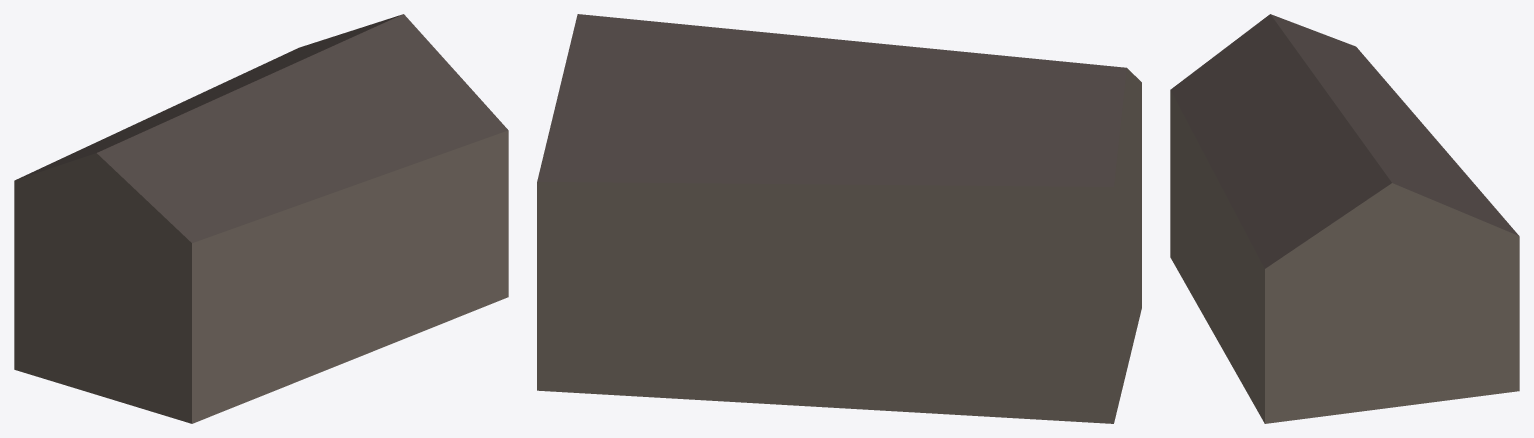
3 renders of one model, left to right at view 1: azimuth 30°, elevation 25°; view 2: azimuth 150°, elevation 25°; view 3: azimuth 270°, elevation 25°, orthographic. The views are drawn at different scales.
Visible parts, largest first — view 1: HP-w1516161976; view 2: HP-w1516161976; view 3: HP-w1516161976.
Part boxes in pixels (bbox=[...]): HP-w1516161976: bbox=[14, 14, 508, 423]; HP-w1516161976: bbox=[537, 14, 1141, 423]; HP-w1516161976: bbox=[1170, 14, 1519, 423].
Bounding box in the file's own units: 16.75 × 8.7 × 12.25.
